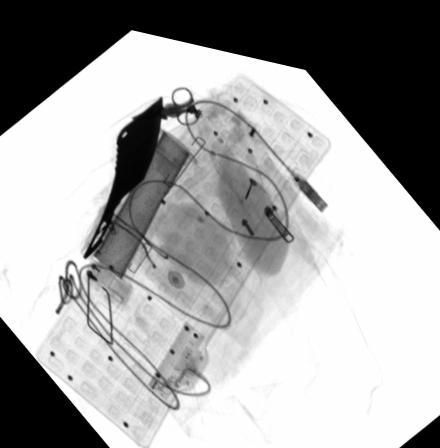Knife: (81, 87, 160, 252)
Scissors: (130, 77, 199, 117)
